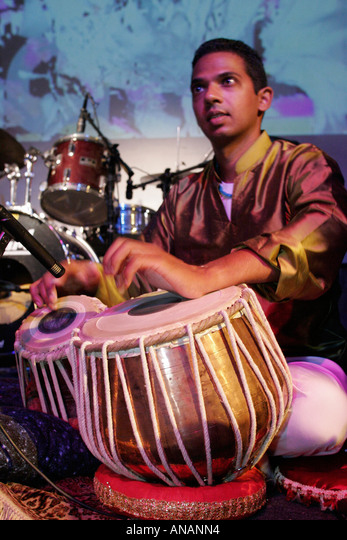tabla: (82, 289, 290, 482), (20, 294, 104, 425)
